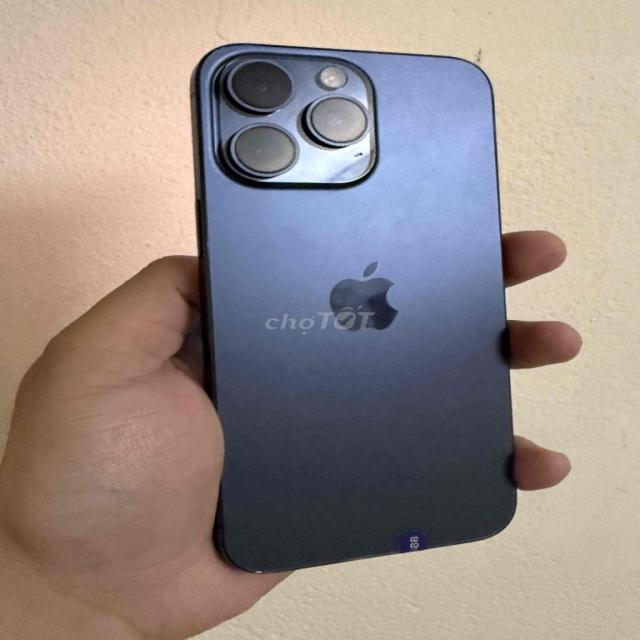gen_15: (180, 30, 540, 579)
physical_damage: (317, 150, 390, 191)
scratch: (245, 560, 268, 578)
